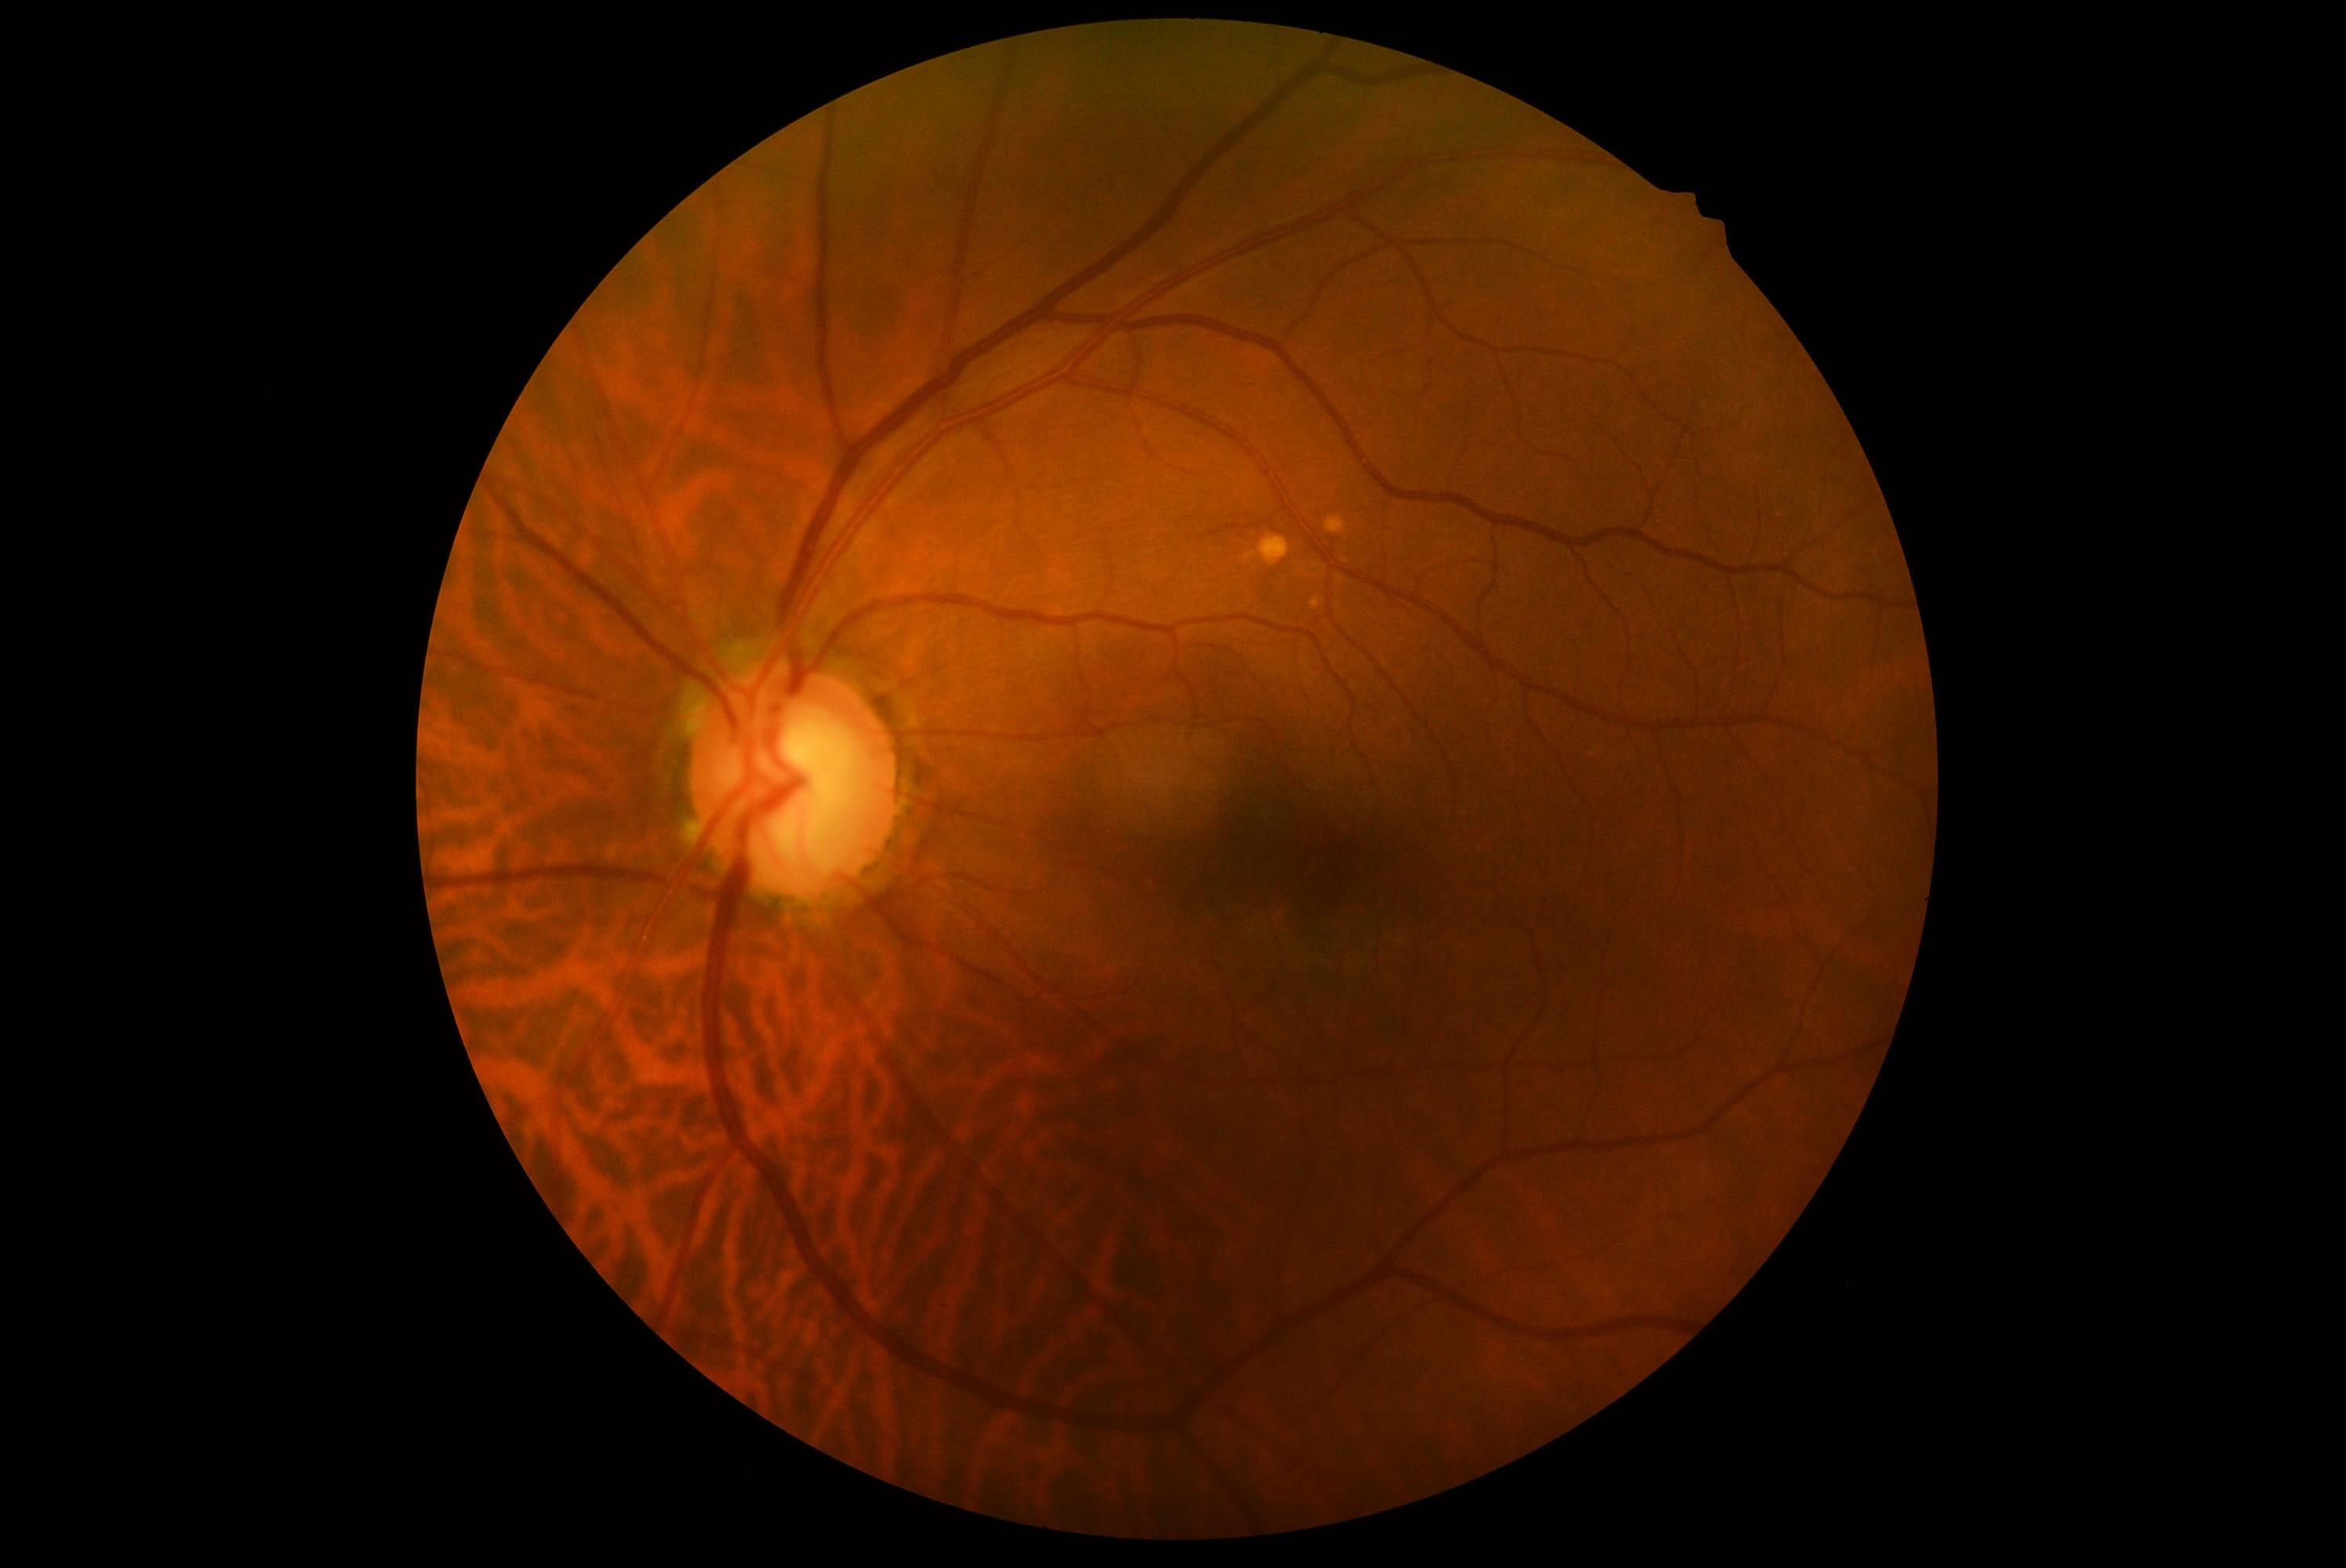Fovea: (1232, 789, 1386, 940)
